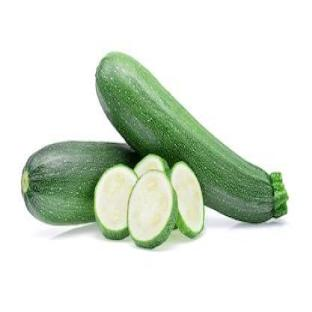Zucchini: (96, 53, 288, 221), (22, 142, 139, 224), (128, 171, 178, 248), (95, 165, 136, 239), (171, 161, 204, 237), (134, 154, 169, 177)
